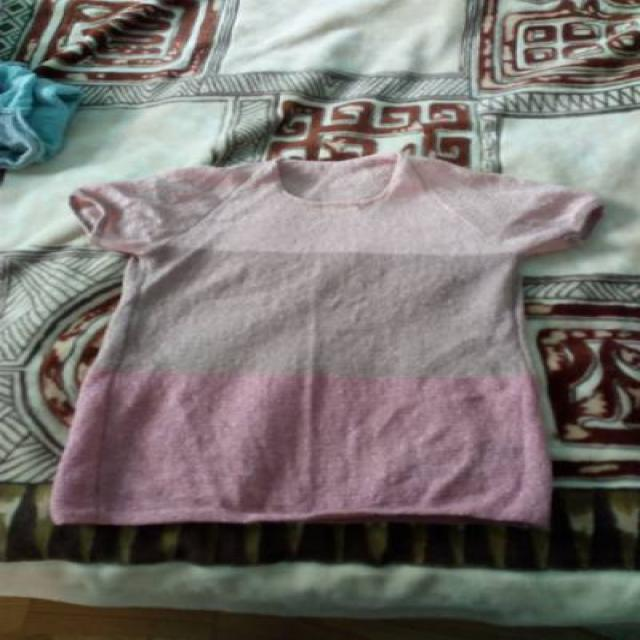Clothes -Biodegradable-: (45, 151, 609, 526)
